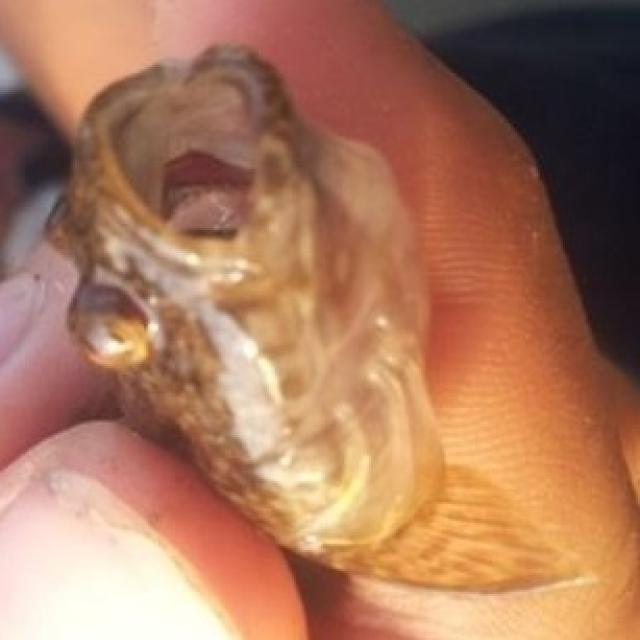Goby: (44, 47, 594, 619)
